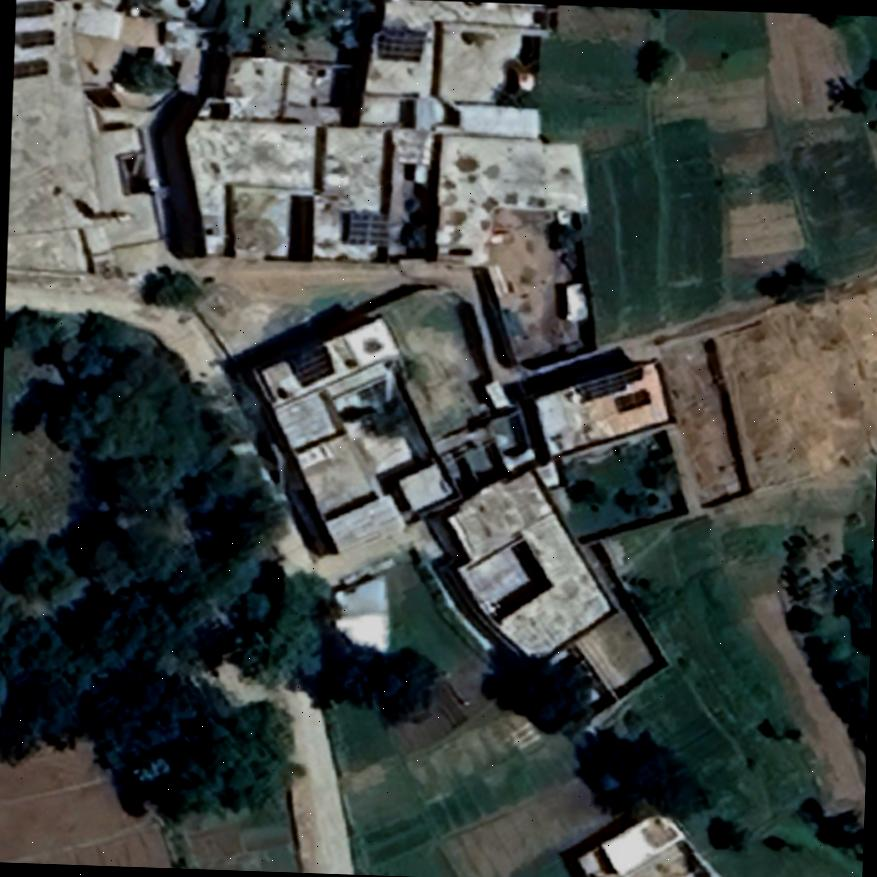Solarpanel: (576, 360, 644, 402), (288, 342, 335, 388), (376, 27, 426, 60), (346, 210, 388, 245), (613, 386, 652, 412), (13, 27, 56, 49), (13, 55, 50, 80), (14, 0, 55, 19)
